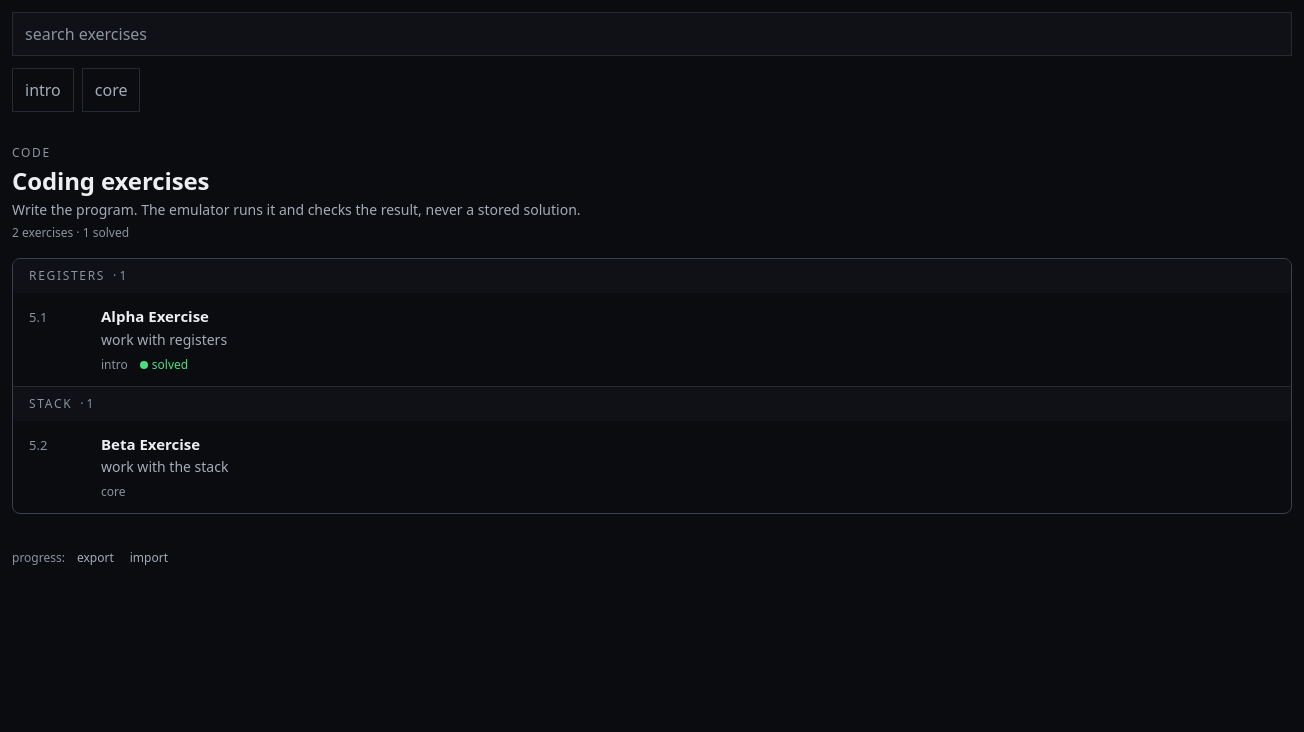
Test: ExerciseIndex › renders the no-match state when the query matches nothing
Type "zzznomatch" into the search field labelled "search exercises".
click(652, 34); type("zzznomatch")  # box [12,12,1292,56]
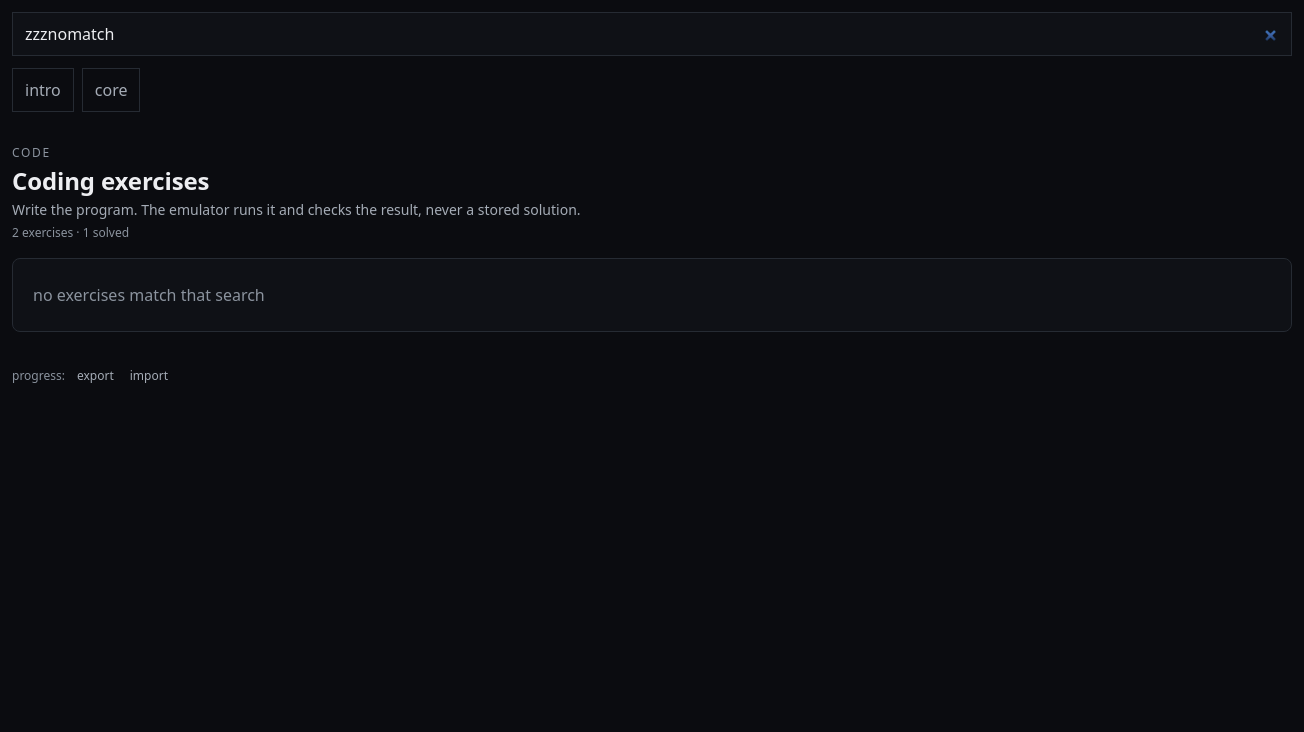
Expected: the text "no exercises match that search" is shown, [33,284,265,306]
